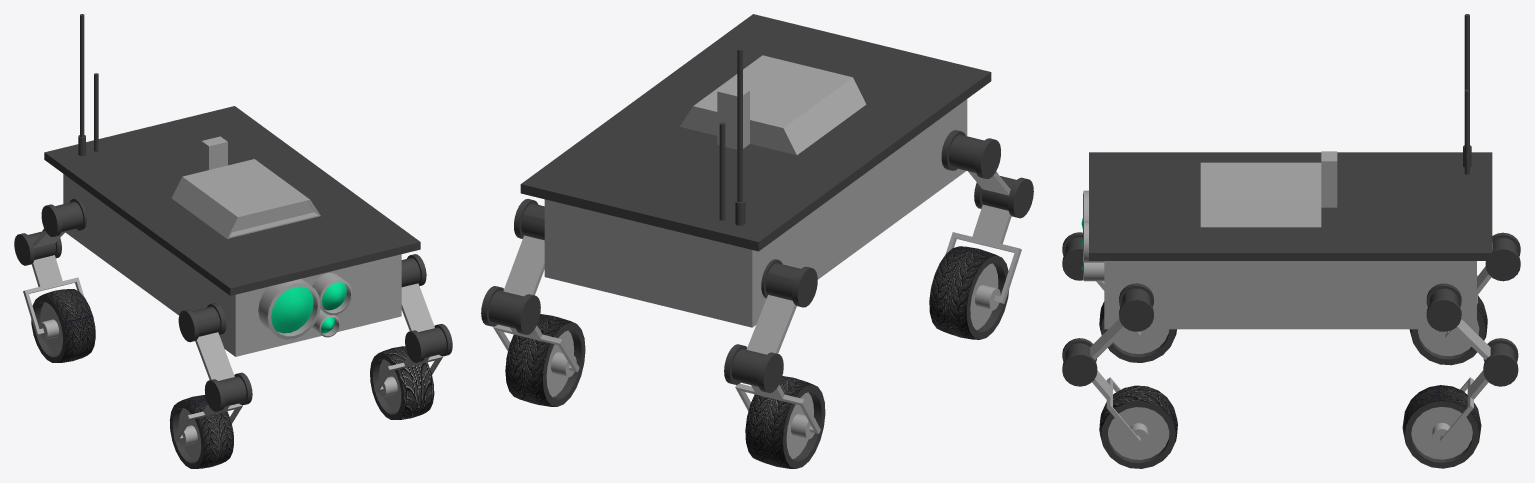
Rendered from Probe.fbx.
3 renders of one model, left to right at view 1: azimuth 30°, elevation 25°; view 2: azimuth 150°, elevation 25°; view 3: azimuth 270°, elevation 25°, orthographic. The views are drawn at different scales.
Visible parts, largest first — view 1: ProbeBody, Wheel (×3), SensorArray, MiddlePivot (×3), LegPivot1 (×3), WheelBrace (×3), LegSegment (×2), AntennaArray; view 2: ProbeBody, Wheel (×3), MiddlePivot (×3), LegPivot1 (×3), WheelBrace (×3), LegSegment (×2), AntennaArray; view 3: ProbeBody, Wheel (×4), MiddlePivot (×4), LegPivot1 (×2), WheelBrace (×2), LegSegment (×2), AntennaArray, SensorArray.
Boxes of the visible parts, bbox=[...] form: ProbeBody: bbox=[44, 106, 420, 356]; Wheel (×3): bbox=[31, 289, 434, 468]; SensorArray: bbox=[258, 273, 352, 339]; MiddlePivot (×3): bbox=[14, 229, 452, 411]; LegPivot1 (×3): bbox=[41, 198, 426, 342]; WheelBrace (×3): bbox=[23, 255, 443, 441]; LegSegment (×2): bbox=[195, 283, 434, 380]; AntennaArray: bbox=[78, 14, 98, 155]; ProbeBody: bbox=[520, 14, 991, 327]; Wheel (×3): bbox=[505, 246, 1009, 468]; MiddlePivot (×3): bbox=[481, 171, 1033, 393]; LegPivot1 (×3): bbox=[514, 130, 1000, 307]; WheelBrace (×3): bbox=[493, 204, 1021, 433]; LegSegment (×2): bbox=[503, 235, 796, 354]; AntennaArray: bbox=[719, 48, 745, 225]; ProbeBody: bbox=[1089, 151, 1492, 329]; Wheel (×4): bbox=[1099, 295, 1487, 468]; MiddlePivot (×4): bbox=[1062, 232, 1520, 386]; LegPivot1 (×2): bbox=[1119, 283, 1461, 331]; WheelBrace (×2): bbox=[1092, 370, 1488, 443]; LegSegment (×2): bbox=[1090, 319, 1490, 360]; AntennaArray: bbox=[1463, 14, 1471, 174]; SensorArray: bbox=[1081, 190, 1104, 281].
Bounding box in the file's own units: 1.53 × 1.9 × 2.2.
